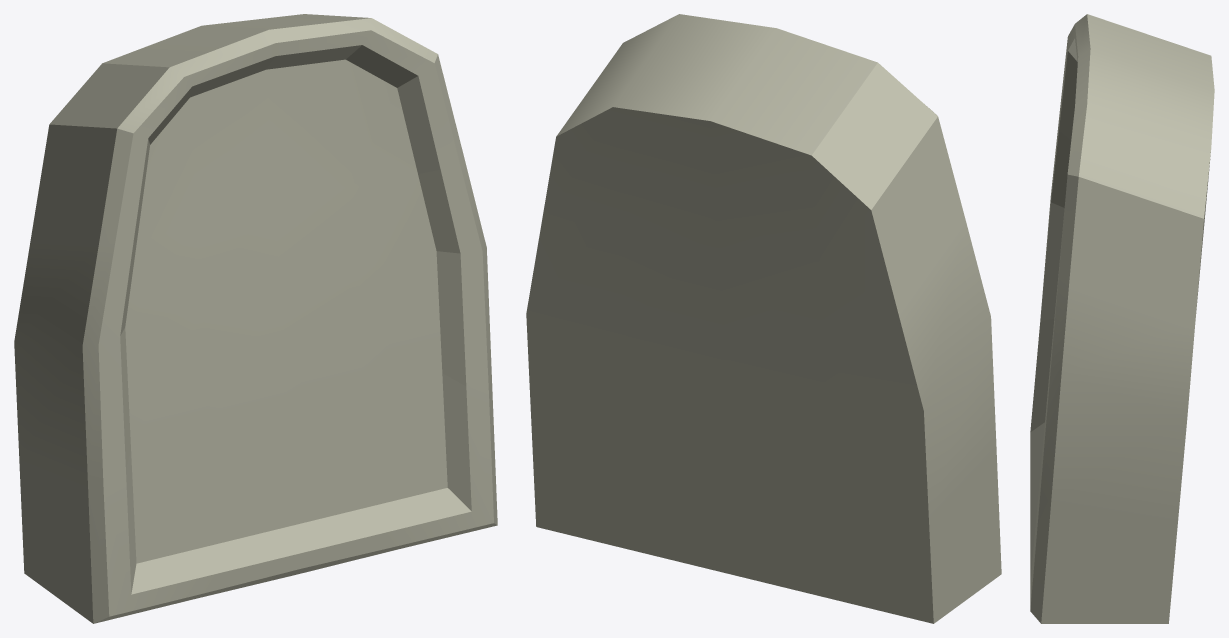
Rendered from Lapida_3_FBX.fbx.
3 renders of one model, left to right at view 1: azimuth 30°, elevation 25°; view 2: azimuth 150°, elevation 25°; view 3: azimuth 270°, elevation 25°, orthographic. The views are drawn at different scales.
Visible parts, largest first — view 1: Lapida_3; view 2: Lapida_3; view 3: Lapida_3.
Part boxes in pixels (left/top/right/bottom): Lapida_3: left=14, top=14, right=497, bottom=623; Lapida_3: left=526, top=14, right=1001, bottom=623; Lapida_3: left=1030, top=14, right=1214, bottom=623.
Size of the model in its own units: 0.6406 by 0.7956 by 0.2745.
